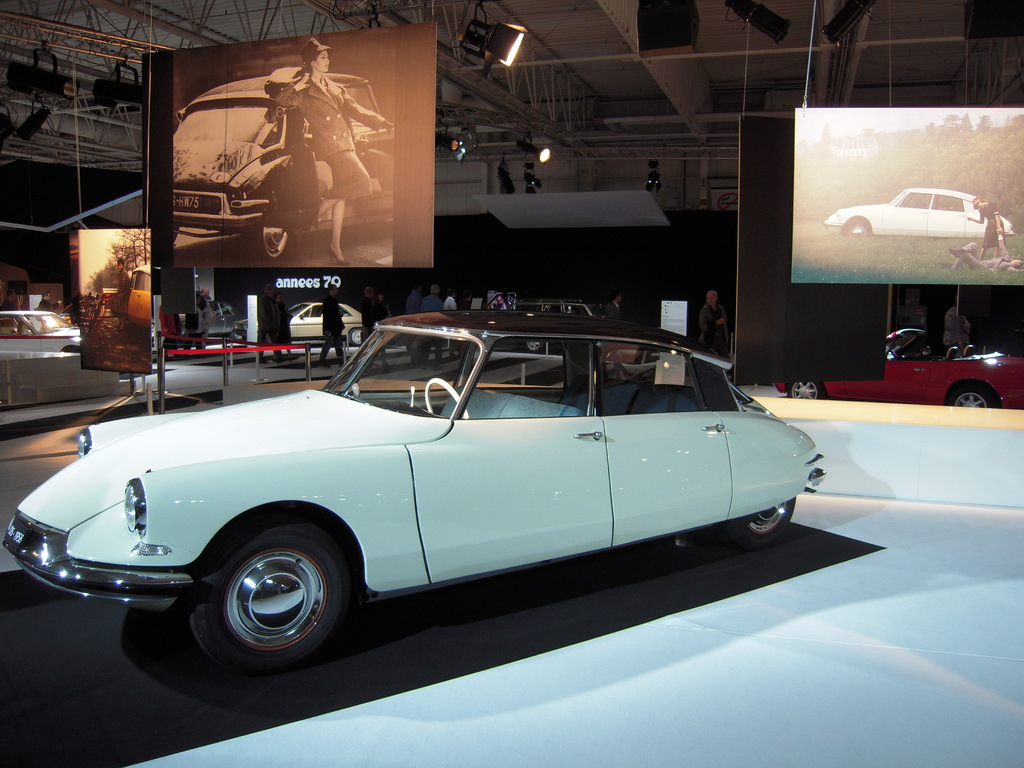Car: (0, 309, 826, 674), (170, 72, 391, 261), (774, 330, 1023, 407), (822, 184, 1016, 235), (225, 297, 371, 343), (0, 303, 87, 359)
